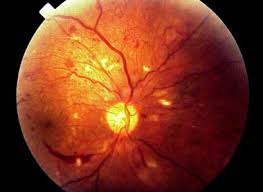Glaucoma section-1: (113, 109, 132, 128)
Glaucoma section-2: (107, 102, 139, 137)
